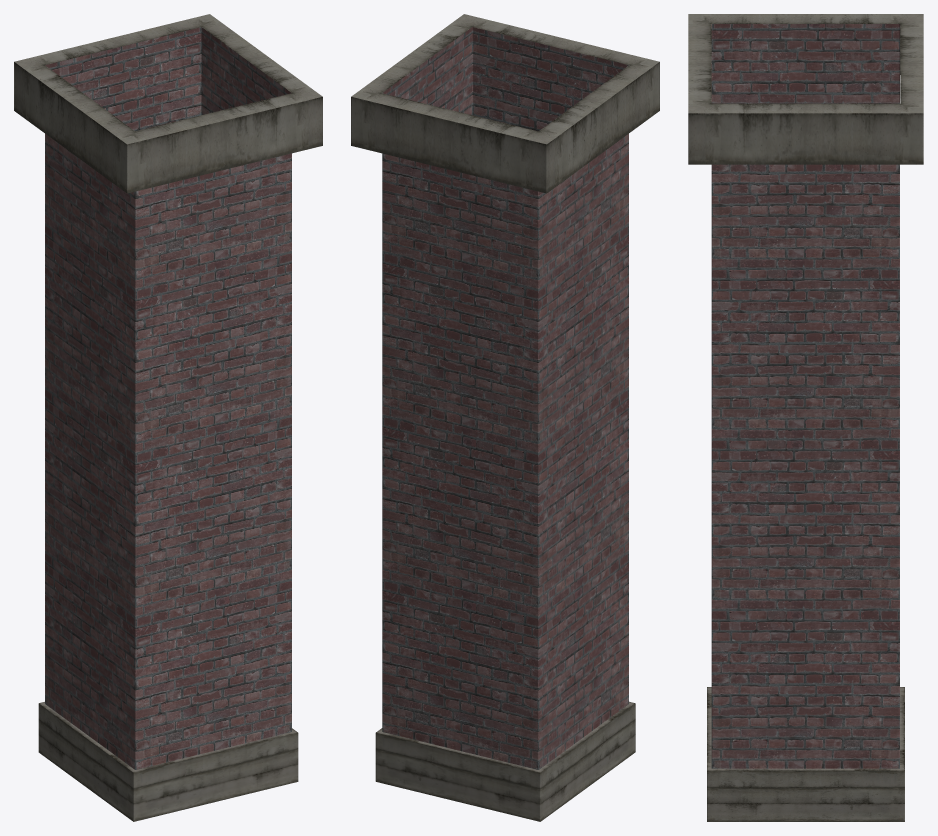
File: Wall_D_Brick_Pilar_1x.FBX
The picture shows the model from 3 angles, left to right: view 1: azimuth 30°, elevation 25°; view 2: azimuth 150°, elevation 25°; view 3: azimuth 270°, elevation 25°; orthographic projection. The views are drawn at different scales.
Visible parts, largest first — view 1: Wall_D_Brick_Pilar_1x; view 2: Wall_D_Brick_Pilar_1x; view 3: Wall_D_Brick_Pilar_1x.
Part boxes in pixels (<box>): Wall_D_Brick_Pilar_1x: <box>14,14,322,821</box>; Wall_D_Brick_Pilar_1x: <box>351,14,659,821</box>; Wall_D_Brick_Pilar_1x: <box>688,14,923,821</box>.
Bounding box in the file's own units: 125 × 420 × 125.
